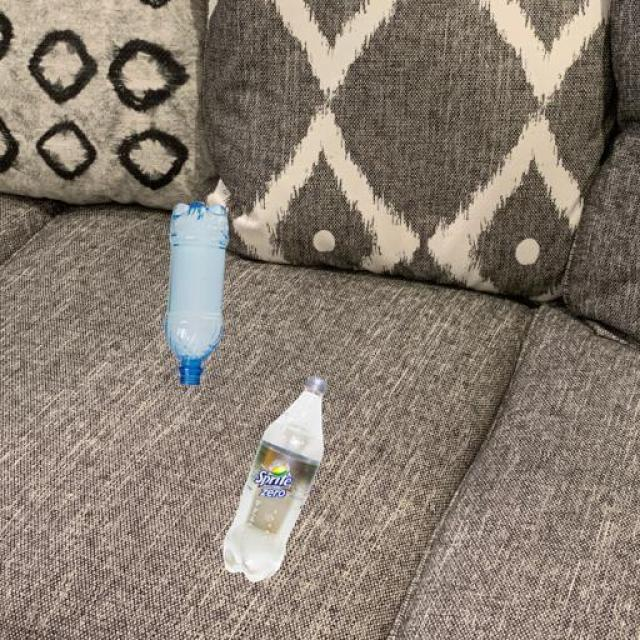bottle: (216, 376, 356, 584), (169, 197, 230, 387)
